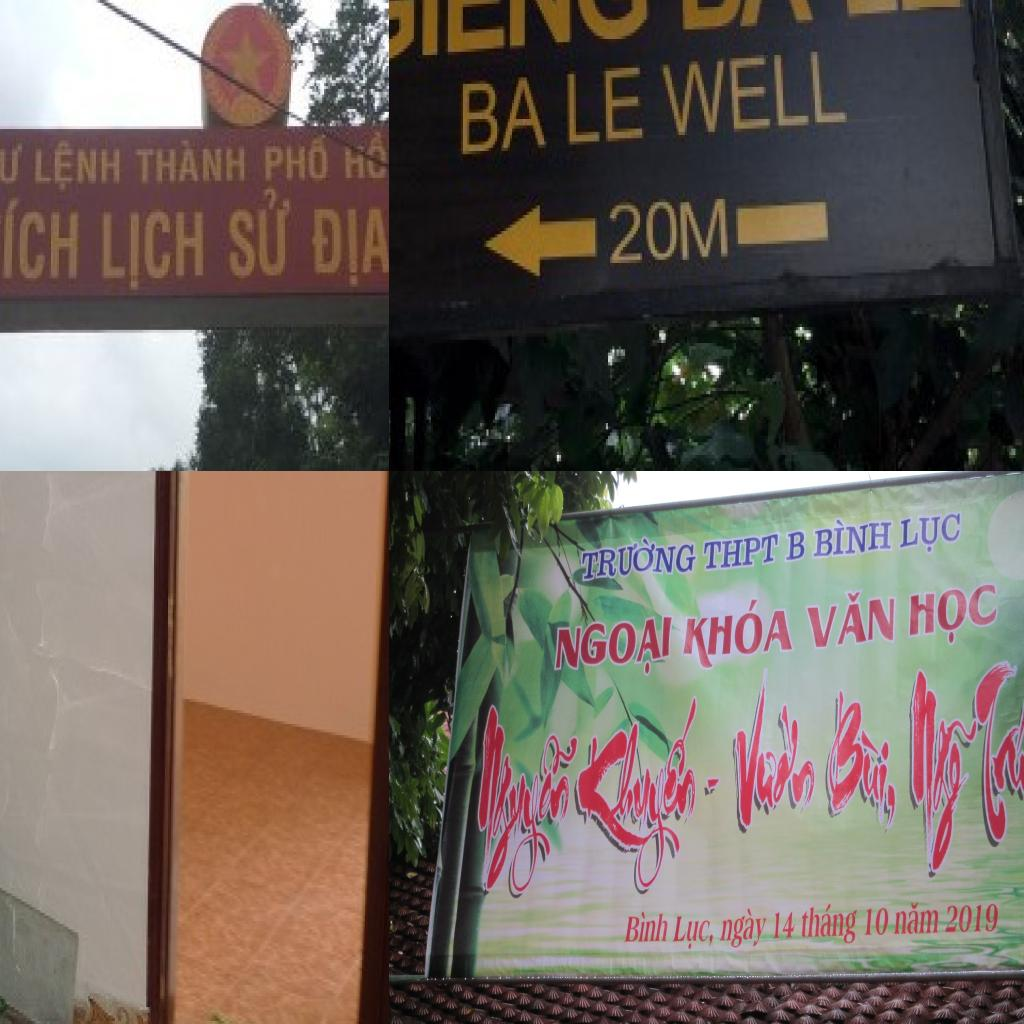text: (564, 692, 708, 908), (468, 700, 586, 901), (389, 0, 653, 71), (655, 48, 849, 142), (906, 666, 986, 886), (729, 665, 825, 839), (821, 688, 900, 839), (971, 655, 1024, 856), (98, 204, 211, 298), (679, 595, 797, 673), (550, 613, 674, 686), (0, 197, 86, 292), (563, 61, 651, 151), (308, 197, 389, 292), (224, 192, 298, 290), (459, 74, 548, 154), (906, 579, 1000, 653), (135, 135, 254, 192), (801, 584, 898, 652), (578, 530, 699, 583), (30, 135, 125, 195), (678, 0, 816, 32), (811, 510, 895, 561), (262, 132, 332, 189), (699, 530, 781, 572), (898, 509, 963, 557), (800, 900, 862, 948), (341, 129, 389, 186), (718, 905, 771, 949), (623, 907, 671, 945), (893, 899, 941, 936), (670, 914, 716, 952), (0, 131, 27, 189), (863, 904, 890, 938), (784, 526, 808, 564), (771, 909, 797, 941)
